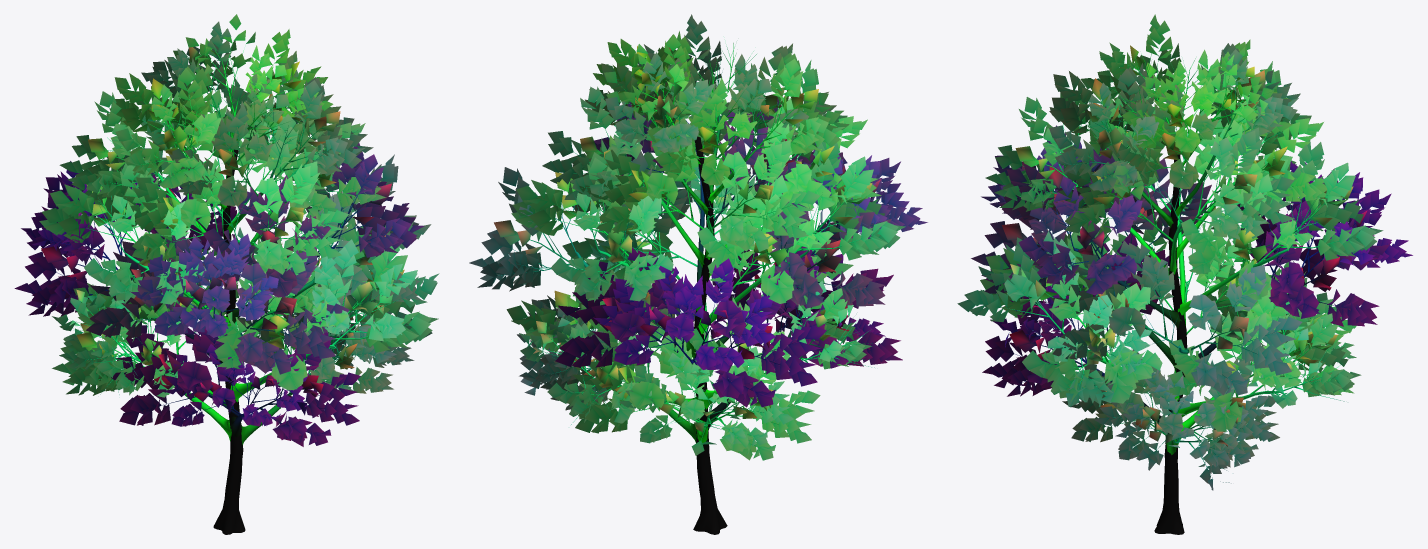
File: Tree LOD1.fbx
3 renders of one model, left to right at view 1: azimuth 30°, elevation 25°; view 2: azimuth 150°, elevation 25°; view 3: azimuth 270°, elevation 25°, orthographic. The views are drawn at different scales.
Visible parts, largest first — view 1: leaf_maple_1, SM_TreeIt_Maple; view 2: leaf_maple_1, SM_TreeIt_Maple; view 3: leaf_maple_1, SM_TreeIt_Maple.
Boxes of the visible parts, box(x1,y1,x2,y2) form: leaf_maple_1: box(14, 14, 439, 446); SM_TreeIt_Maple: box(49, 47, 407, 534); leaf_maple_1: box(469, 14, 927, 460); SM_TreeIt_Maple: box(498, 43, 881, 534); leaf_maple_1: box(957, 14, 1412, 490); SM_TreeIt_Maple: box(1002, 51, 1356, 534).
Bounding box in the file's own units: 3227 × 4055 × 3396.
